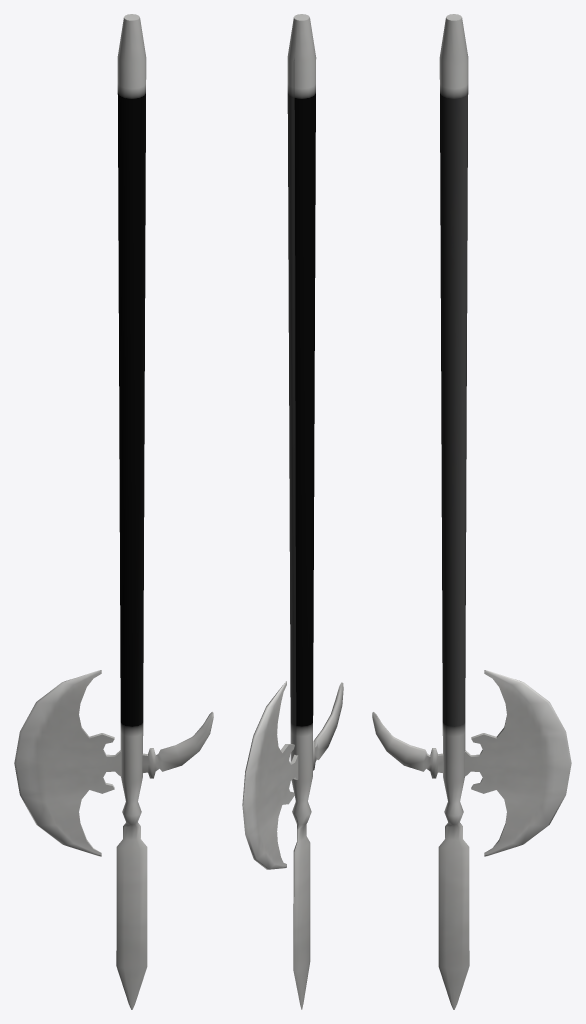
File: HCHalberd.fbx
3 renders of one model, left to right at view 1: azimuth 90°, elevation 25°; view 2: azimuth 150°, elevation 25°; view 3: azimuth 270°, elevation 25°, orthographic.
Parts seen in each view (by area): view 1: Blade; view 2: Blade; view 3: Blade.
Boxes of the visible parts, x1,y1,x2,y2 form: Blade: [14, 14, 213, 1009]; Blade: [242, 14, 343, 1009]; Blade: [372, 14, 571, 1009].
Bounding box in the file's own units: 0.0277 × 1.06 × 0.1929.
